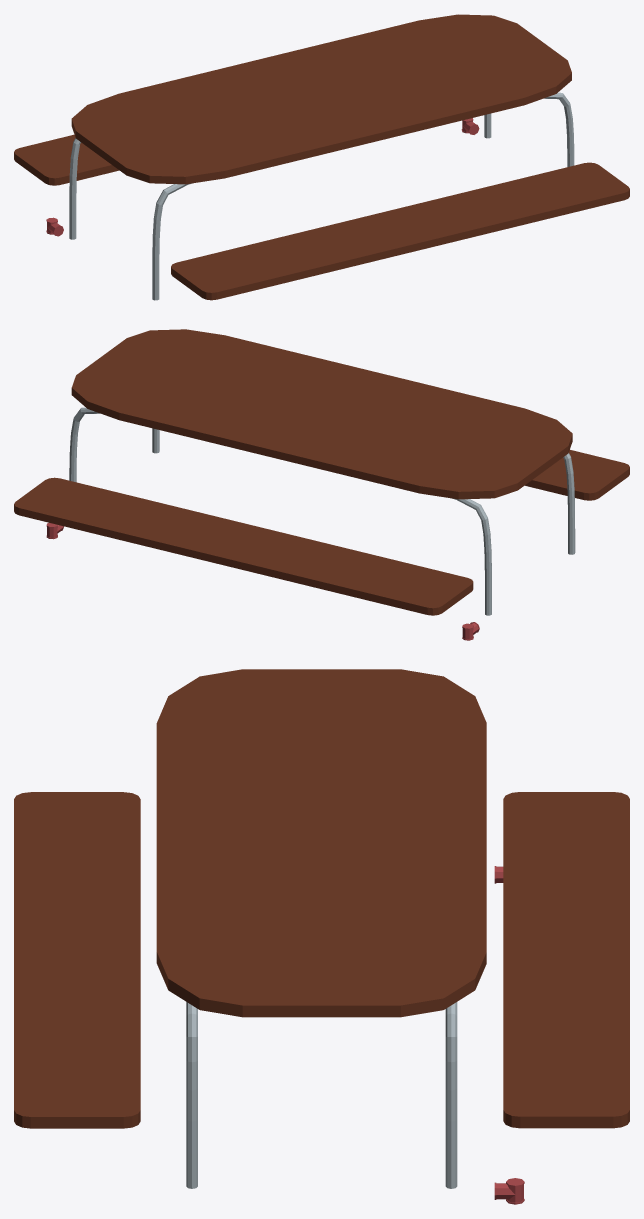
File: mesa.fbx
3 renders of one model, top to bottom at view 1: azimuth 30°, elevation 25°; view 2: azimuth 150°, elevation 25°; view 3: azimuth 270°, elevation 25°, orthographic. The views are drawn at different scales.
Visible parts, largest first — view 1: MesaComedor, Cube.012, Cube.019, NurbsPath.004, Cylinder.026; view 2: MesaComedor, Cube.019, Cube.012, NurbsPath.004, Cylinder.026; view 3: MesaComedor, Cube.019, Cube.012, NurbsPath.004, Cylinder.026.
Boxes of the visible parts, box(x1,y1,x2,y2) form: MesaComedor: box(71, 14, 571, 184); Cube.012: box(171, 162, 629, 300); Cube.019: box(14, 134, 119, 185); NurbsPath.004: box(69, 92, 574, 300); Cylinder.026: box(46, 118, 479, 236); MesaComedor: box(71, 329, 572, 499); Cube.019: box(14, 477, 473, 615); Cube.012: box(525, 450, 629, 500); NurbsPath.004: box(69, 407, 575, 615); Cylinder.026: box(46, 523, 479, 640); MesaComedor: box(156, 669, 486, 1017); Cube.019: box(503, 792, 629, 1128); Cube.012: box(14, 792, 140, 1128); NurbsPath.004: box(186, 1002, 457, 1188); Cylinder.026: box(494, 866, 524, 1204).
Size of the model in its own units: 345 by 98.23 by 267.
